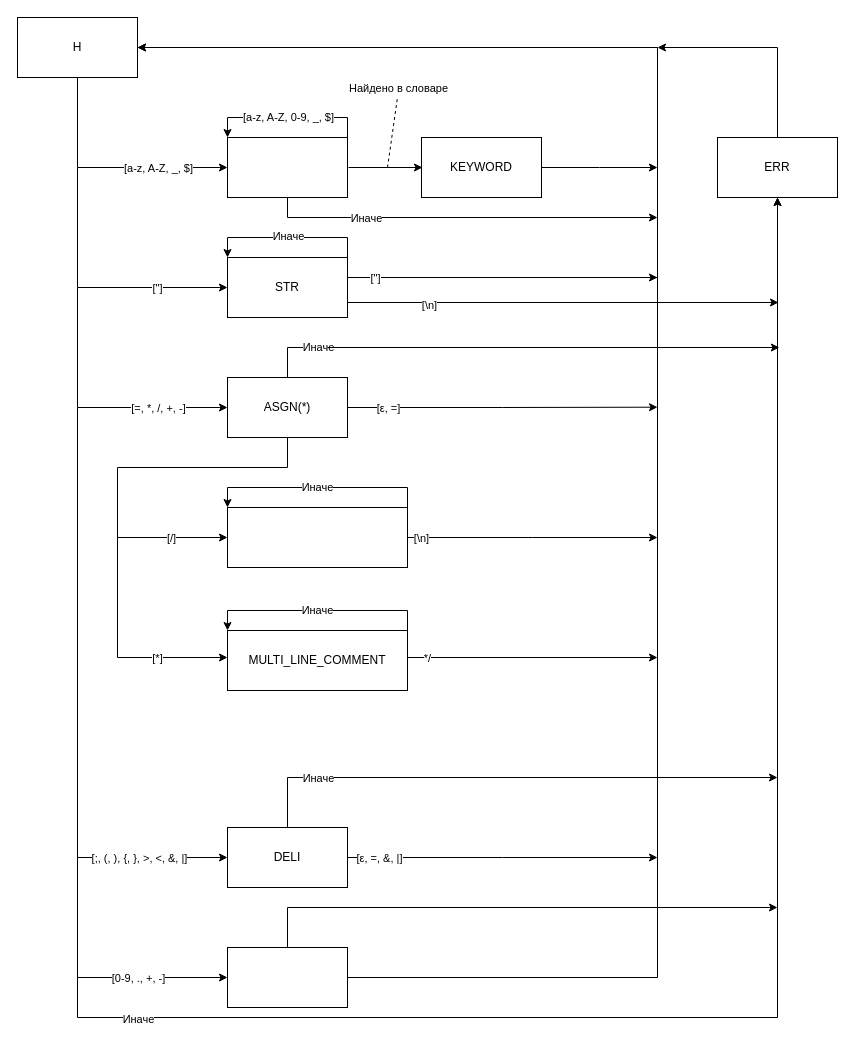
This 855x1043 diagram has some shape labels left out. The shapes that lost their labels are listed below. From the top down, each one's box as (x1, y1, x2, y2) in pixels, then its label:
(226, 136, 348, 198): ID
(226, 506, 408, 568): SINGLE_LINE_COMMENT
(226, 946, 348, 1008): NUMBER(*)
